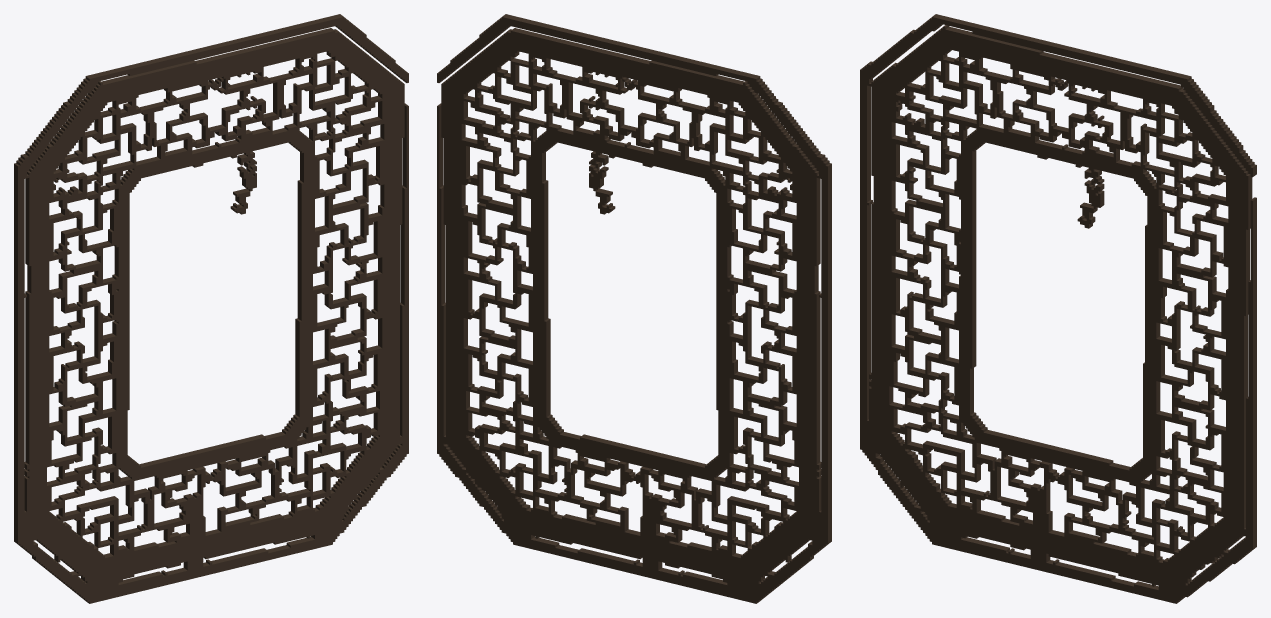
File: lattice_window.glb
3 views of the same model, side by side, from view 1: azimuth 30°, elevation 25°; view 2: azimuth 150°, elevation 25°; view 3: azimuth 330°, elevation 25° (orthographic).
Parts seen in each view (by area): view 1: Lattice_Silhouette; view 2: Lattice_Silhouette; view 3: Lattice_Silhouette.
Part boxes in pixels (x1,y1,x2,y2): Lattice_Silhouette: (14,14,408,603); Lattice_Silhouette: (437,14,831,603); Lattice_Silhouette: (860,14,1256,603).
Bounding box in the file's own units: 1.5 × 1.92 × 0.0267.
